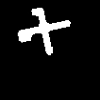single_crochet: (18, 8, 70, 54)
